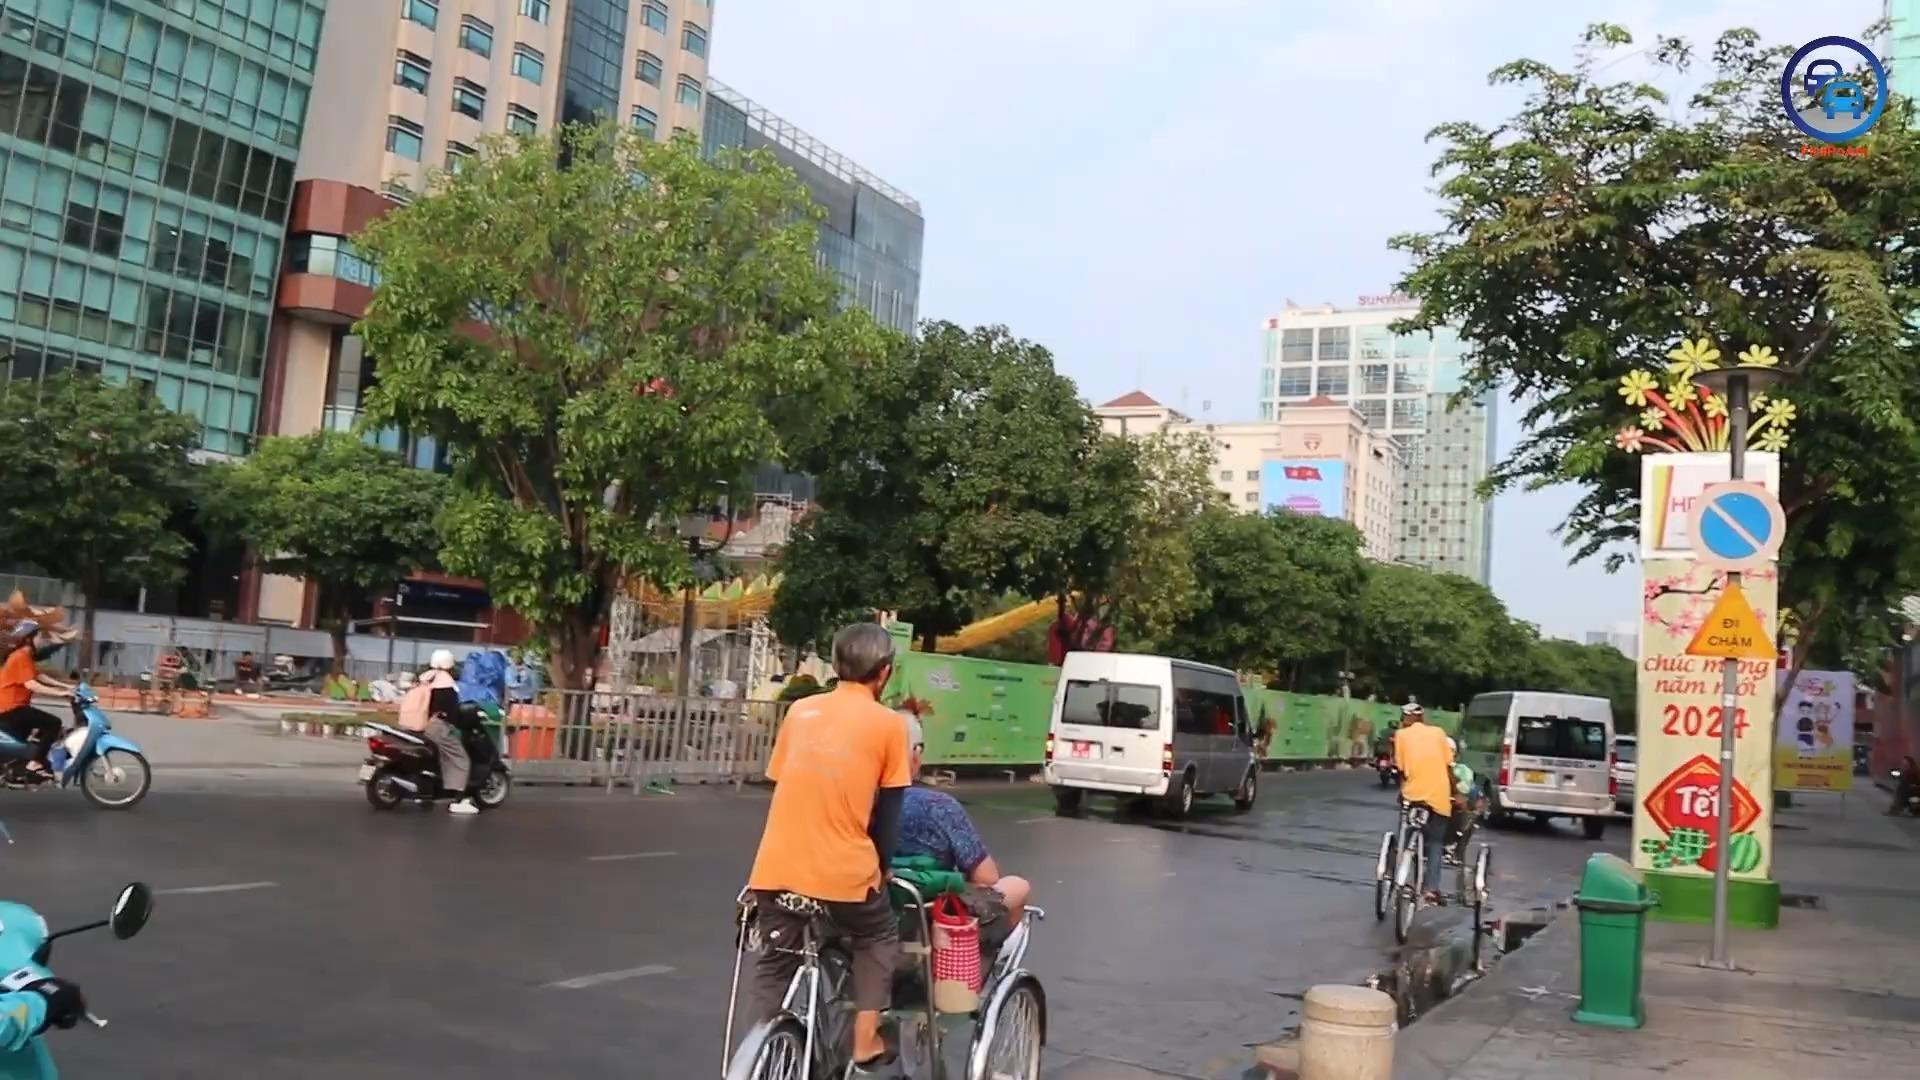bien_so: (1521, 767, 1547, 785), (1070, 739, 1091, 760)
